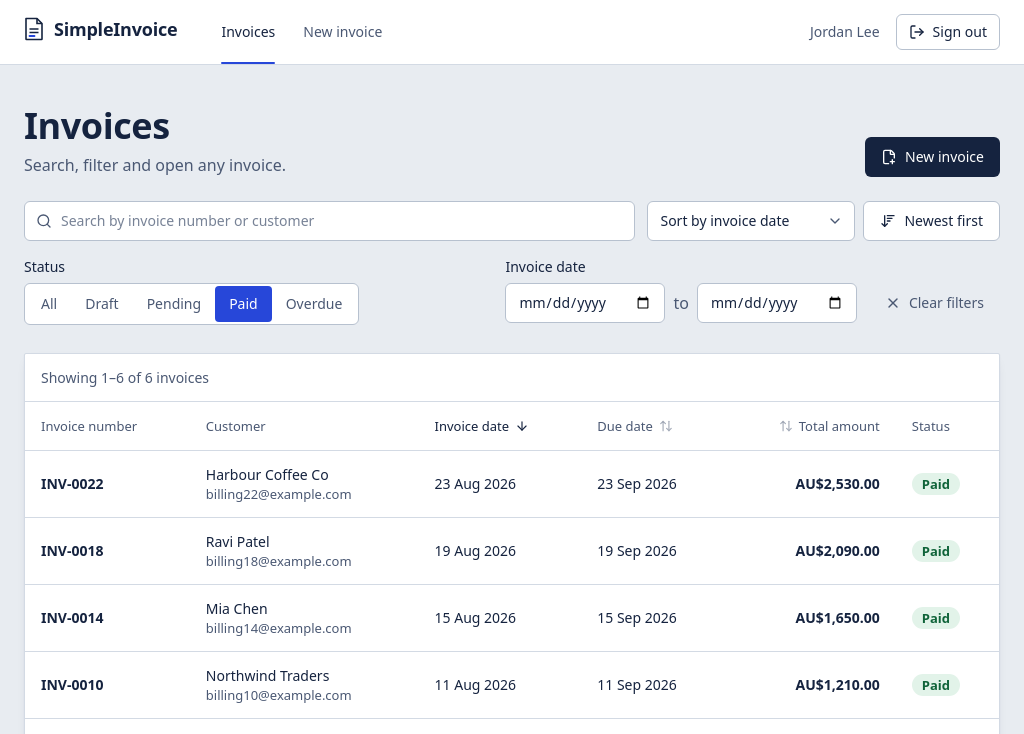
Scenario: invoice list › drops a search still being typed when the filters are cleared
In the search field named "Search invoices": (330, 221) [24,201,636,241], type "inv"
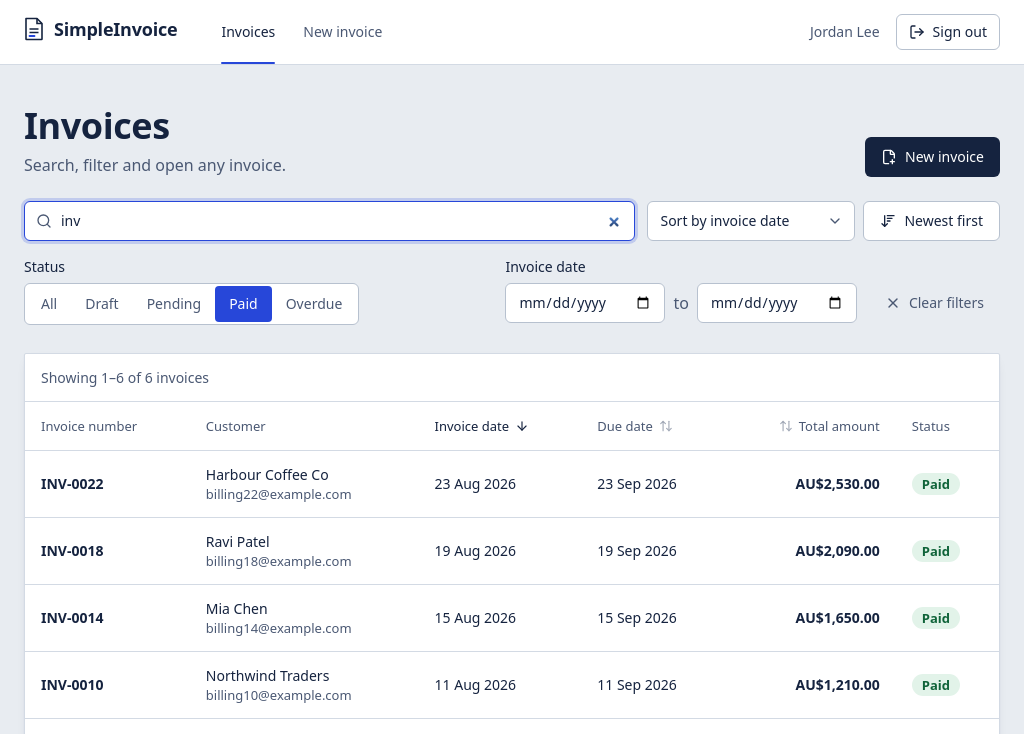
Click the button "Clear filters": (934, 303) [869,283,1000,323]
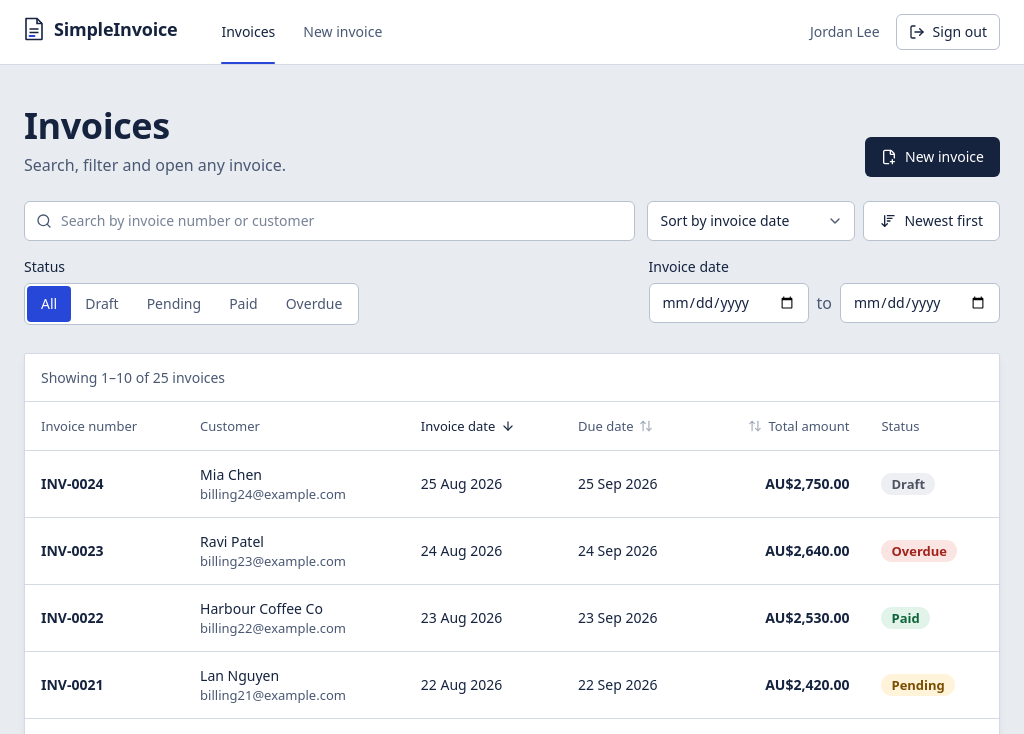
Now the search field named "Search invoices" is empty, box [24,201,636,241]
